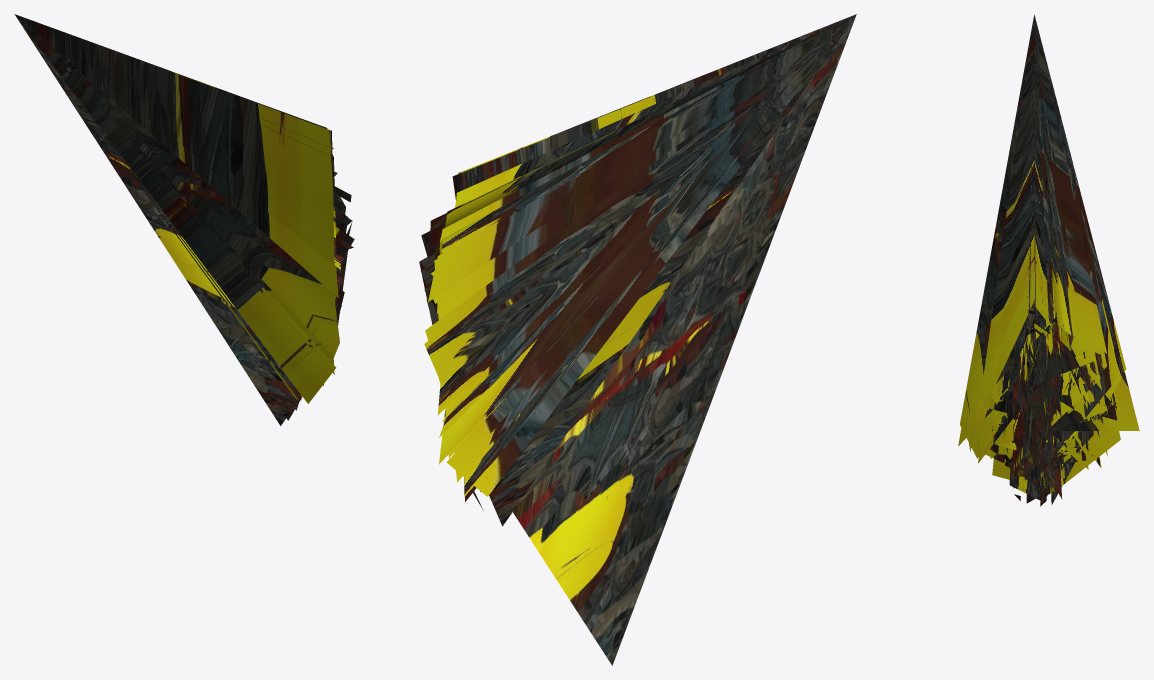
The model's file is lantern.glb.
The picture shows the model from 3 angles, left to right: view 1: azimuth 30°, elevation 25°; view 2: azimuth 150°, elevation 25°; view 3: azimuth 270°, elevation 25°; orthographic projection. The views are drawn at different scales.
Parts seen in each view (by area): view 1: temp; view 2: temp; view 3: temp.
Part boxes in pixels (left/top/right/bottom): temp: left=14, top=14, right=354, bottom=425; temp: left=419, top=14, right=856, bottom=665; temp: left=958, top=15, right=1139, bottom=506.
Bounding box in the file's own units: 0.2831 × 0.5225 × 0.2242.
1 material, 1 textured.
